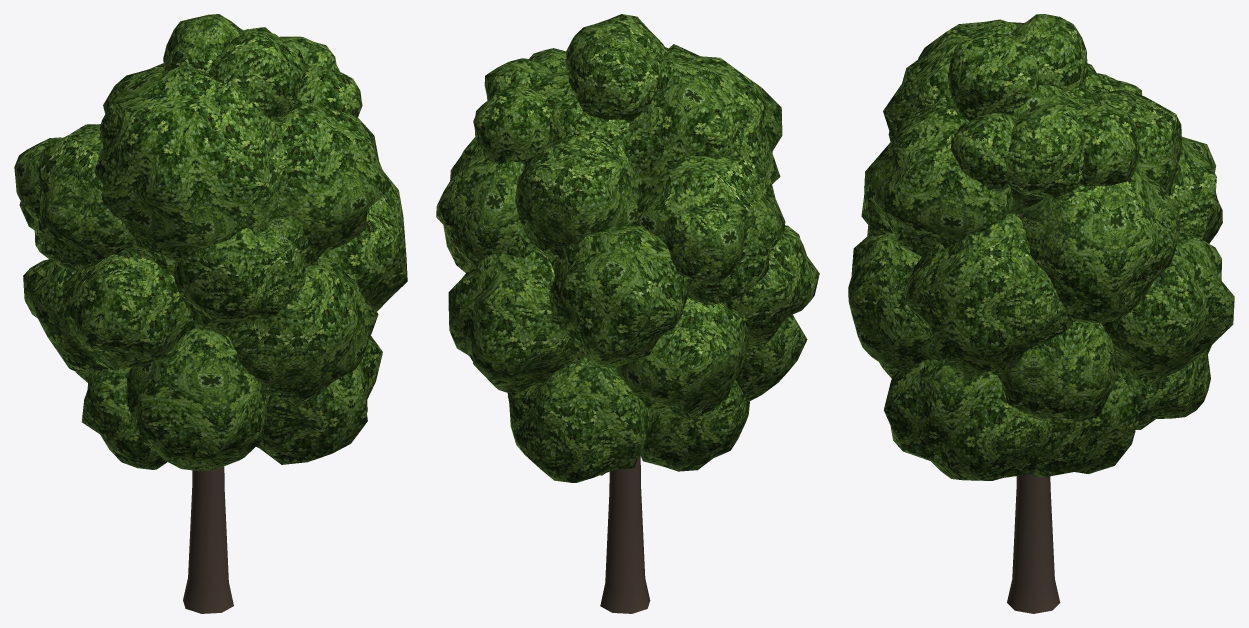
File: stadt_baum_ahorn.glb
3 renders of one model, left to right at view 1: azimuth 30°, elevation 25°; view 2: azimuth 150°, elevation 25°; view 3: azimuth 270°, elevation 25°, orthographic. The views are drawn at different scales.
Parts seen in each view (by area): view 1: Prop; view 2: Prop; view 3: Prop.
Part boxes in pixels (x1,y1,x2,y2): Prop: [14, 14, 407, 613]; Prop: [436, 14, 819, 613]; Prop: [848, 14, 1234, 613].
Bounding box in the file's own units: 0.5842 × 1 × 0.5964.
Materials: 2 (1 with a texture image).
